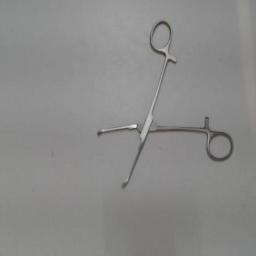Allis Tissue Forceps: (90, 16, 238, 196)
